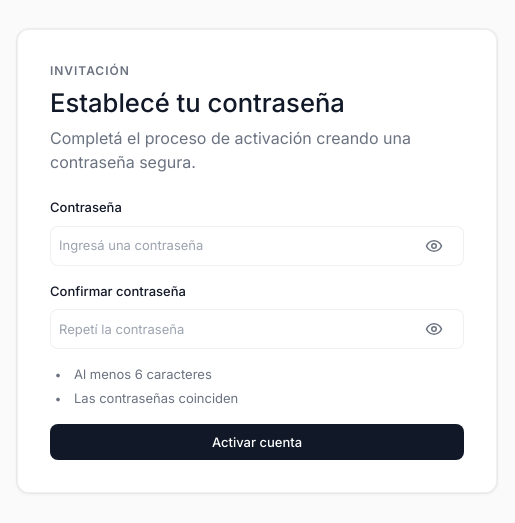
Test case: InvitePage › shows an error when passwords do not match
Type "secret123" into the password field labelled "Contraseña" at (257, 246), box left=50, top=226, right=464, bottom=266
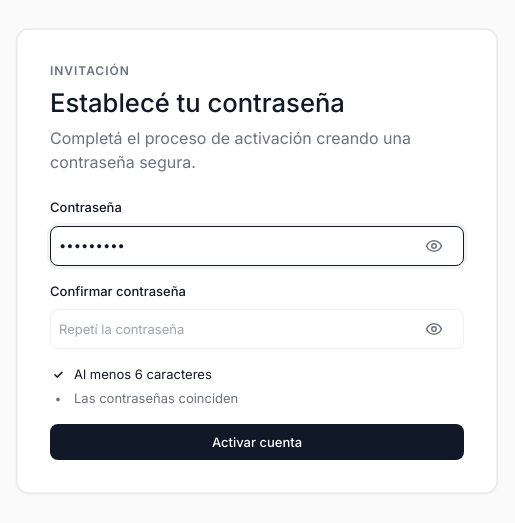
Type "different" into the password field labelled "Confirmar contraseña" at (257, 329), box left=50, top=309, right=464, bottom=349
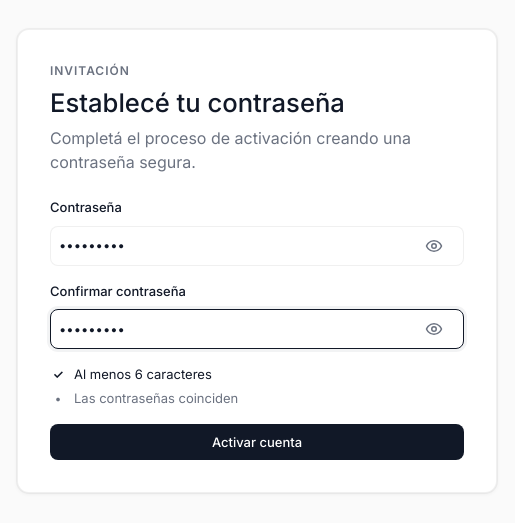
Click the button "Activar cuenta" at (257, 442), box left=50, top=424, right=464, bottom=460
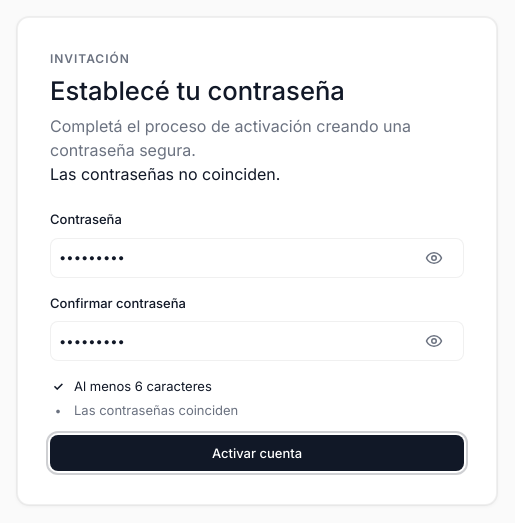
expect the message reads "Las contraseñas no coinciden.": met, box left=50, top=164, right=280, bottom=184
